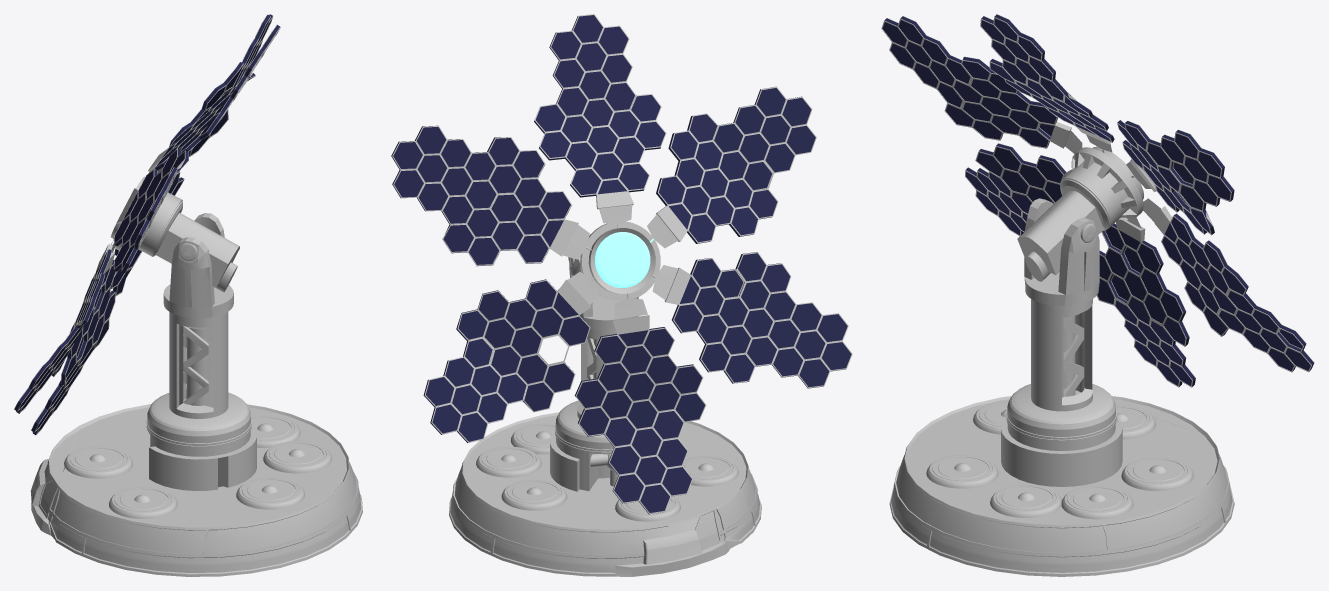
3 renders of one model, left to right at view 1: azimuth 30°, elevation 25°; view 2: azimuth 150°, elevation 25°; view 3: azimuth 270°, elevation 25°, orthographic. The views are drawn at different scales.
Parts seen in each view (by area): view 1: Cylinder.014; view 2: Cylinder.014; view 3: Cylinder.014.
Boxes of the visible parts, left/top/right/bottom form: Cylinder.014: left=14, top=14, right=362, bottom=576; Cylinder.014: left=391, top=14, right=852, bottom=576; Cylinder.014: left=881, top=14, right=1314, bottom=576.
Size of the model in its own units: 339 by 429 by 329.
